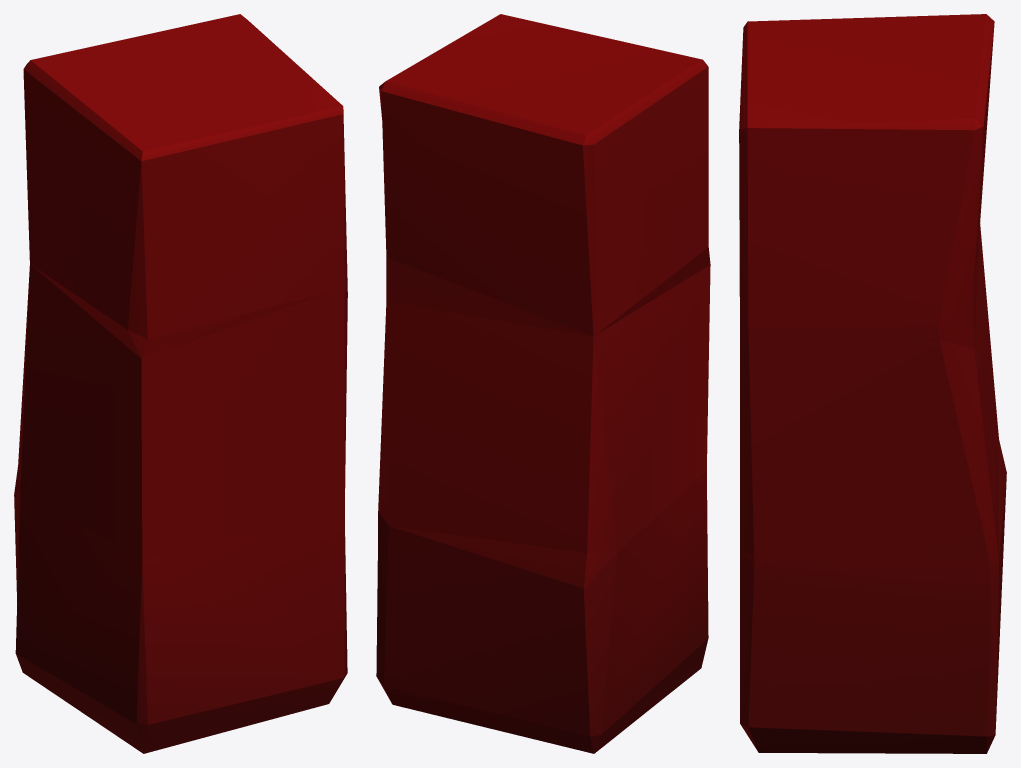
Rendered from geology-carvedstone-stoneblock_v4.fbx.
3 renders of one model, left to right at view 1: azimuth 30°, elevation 25°; view 2: azimuth 150°, elevation 25°; view 3: azimuth 270°, elevation 25°, orthographic. The views are drawn at different scales.
Visible parts, largest first — view 1: StoneBlock_v4; view 2: StoneBlock_v4; view 3: StoneBlock_v4.
Part boxes in pixels (bbox=[...]): StoneBlock_v4: bbox=[14, 14, 347, 753]; StoneBlock_v4: bbox=[376, 14, 710, 753]; StoneBlock_v4: bbox=[739, 14, 1006, 753].
Bounding box in the file's own units: 3.28 × 8.26 × 3.12.
